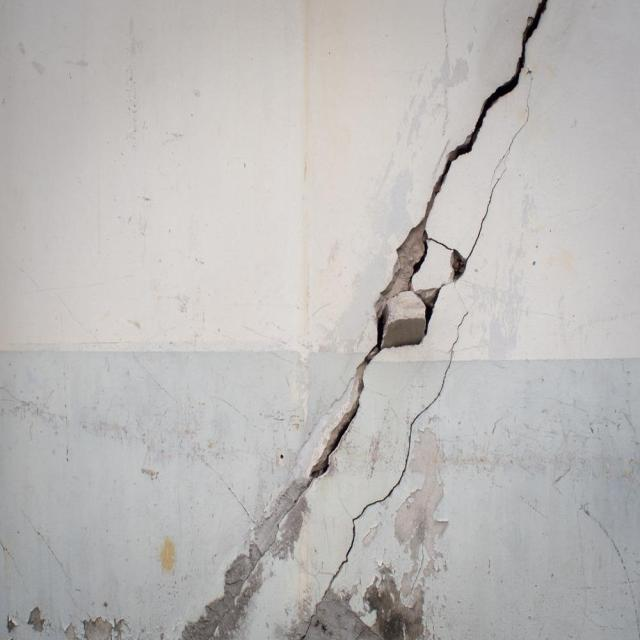crack: (308, 0, 547, 479), (296, 309, 470, 639), (181, 479, 314, 639)
